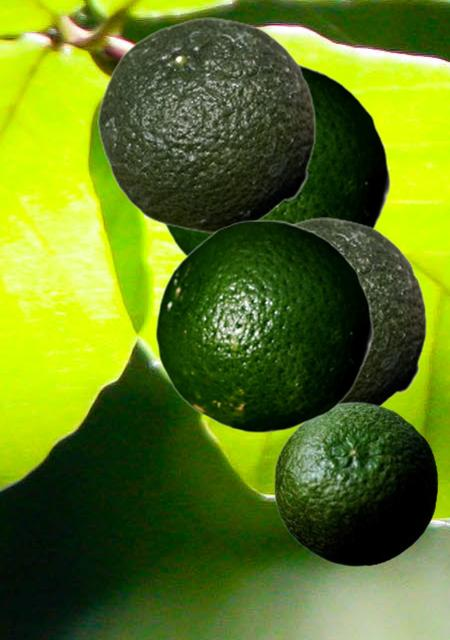calamansi: (97, 17, 315, 232), (155, 219, 373, 432), (162, 60, 390, 256), (273, 401, 437, 566), (291, 217, 426, 405)
